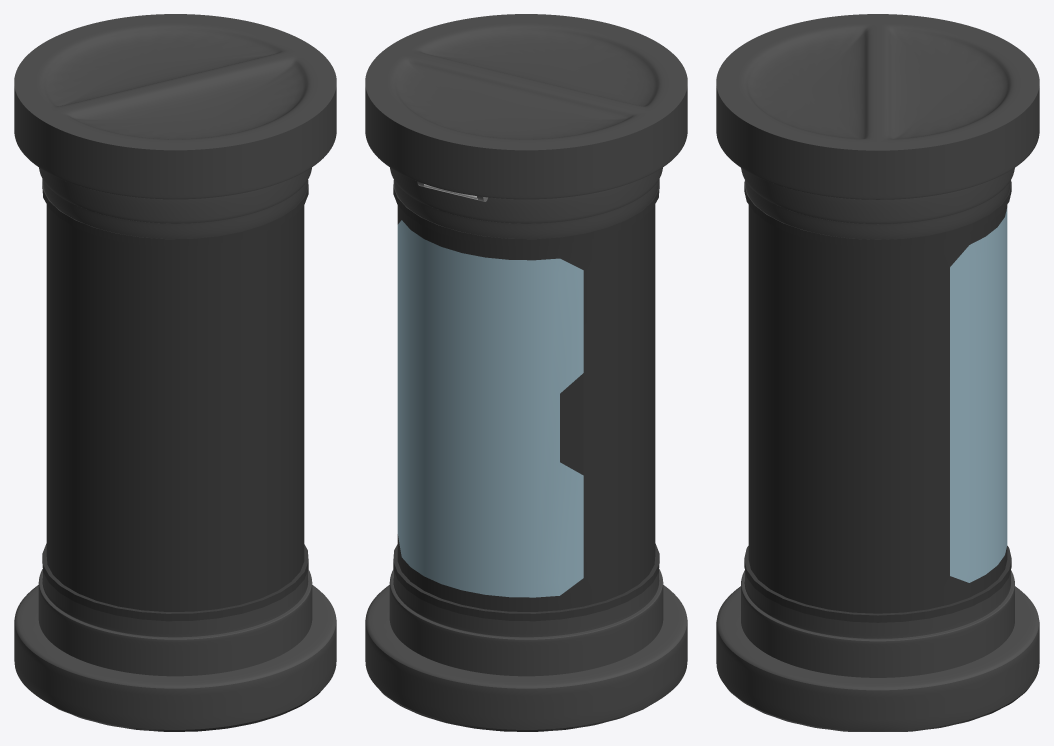
The model's file is kapsül2.fbx.
3 renders of one model, left to right at view 1: azimuth 30°, elevation 25°; view 2: azimuth 150°, elevation 25°; view 3: azimuth 270°, elevation 25°, orthographic.
Parts seen in each view (by area): view 1: Gövde; view 2: Gövde, Gövde.001; view 3: Gövde, Gövde.001.
Part boxes in pixels (box(x1,y1,x2,y2)): Gövde: box(14, 14, 336, 731); Gövde: box(365, 14, 687, 731); Gövde.001: box(397, 220, 583, 597); Gövde: box(716, 14, 1039, 731); Gövde.001: box(950, 208, 1007, 582).
Size of the model in its own units: 239 by 478 by 239.
